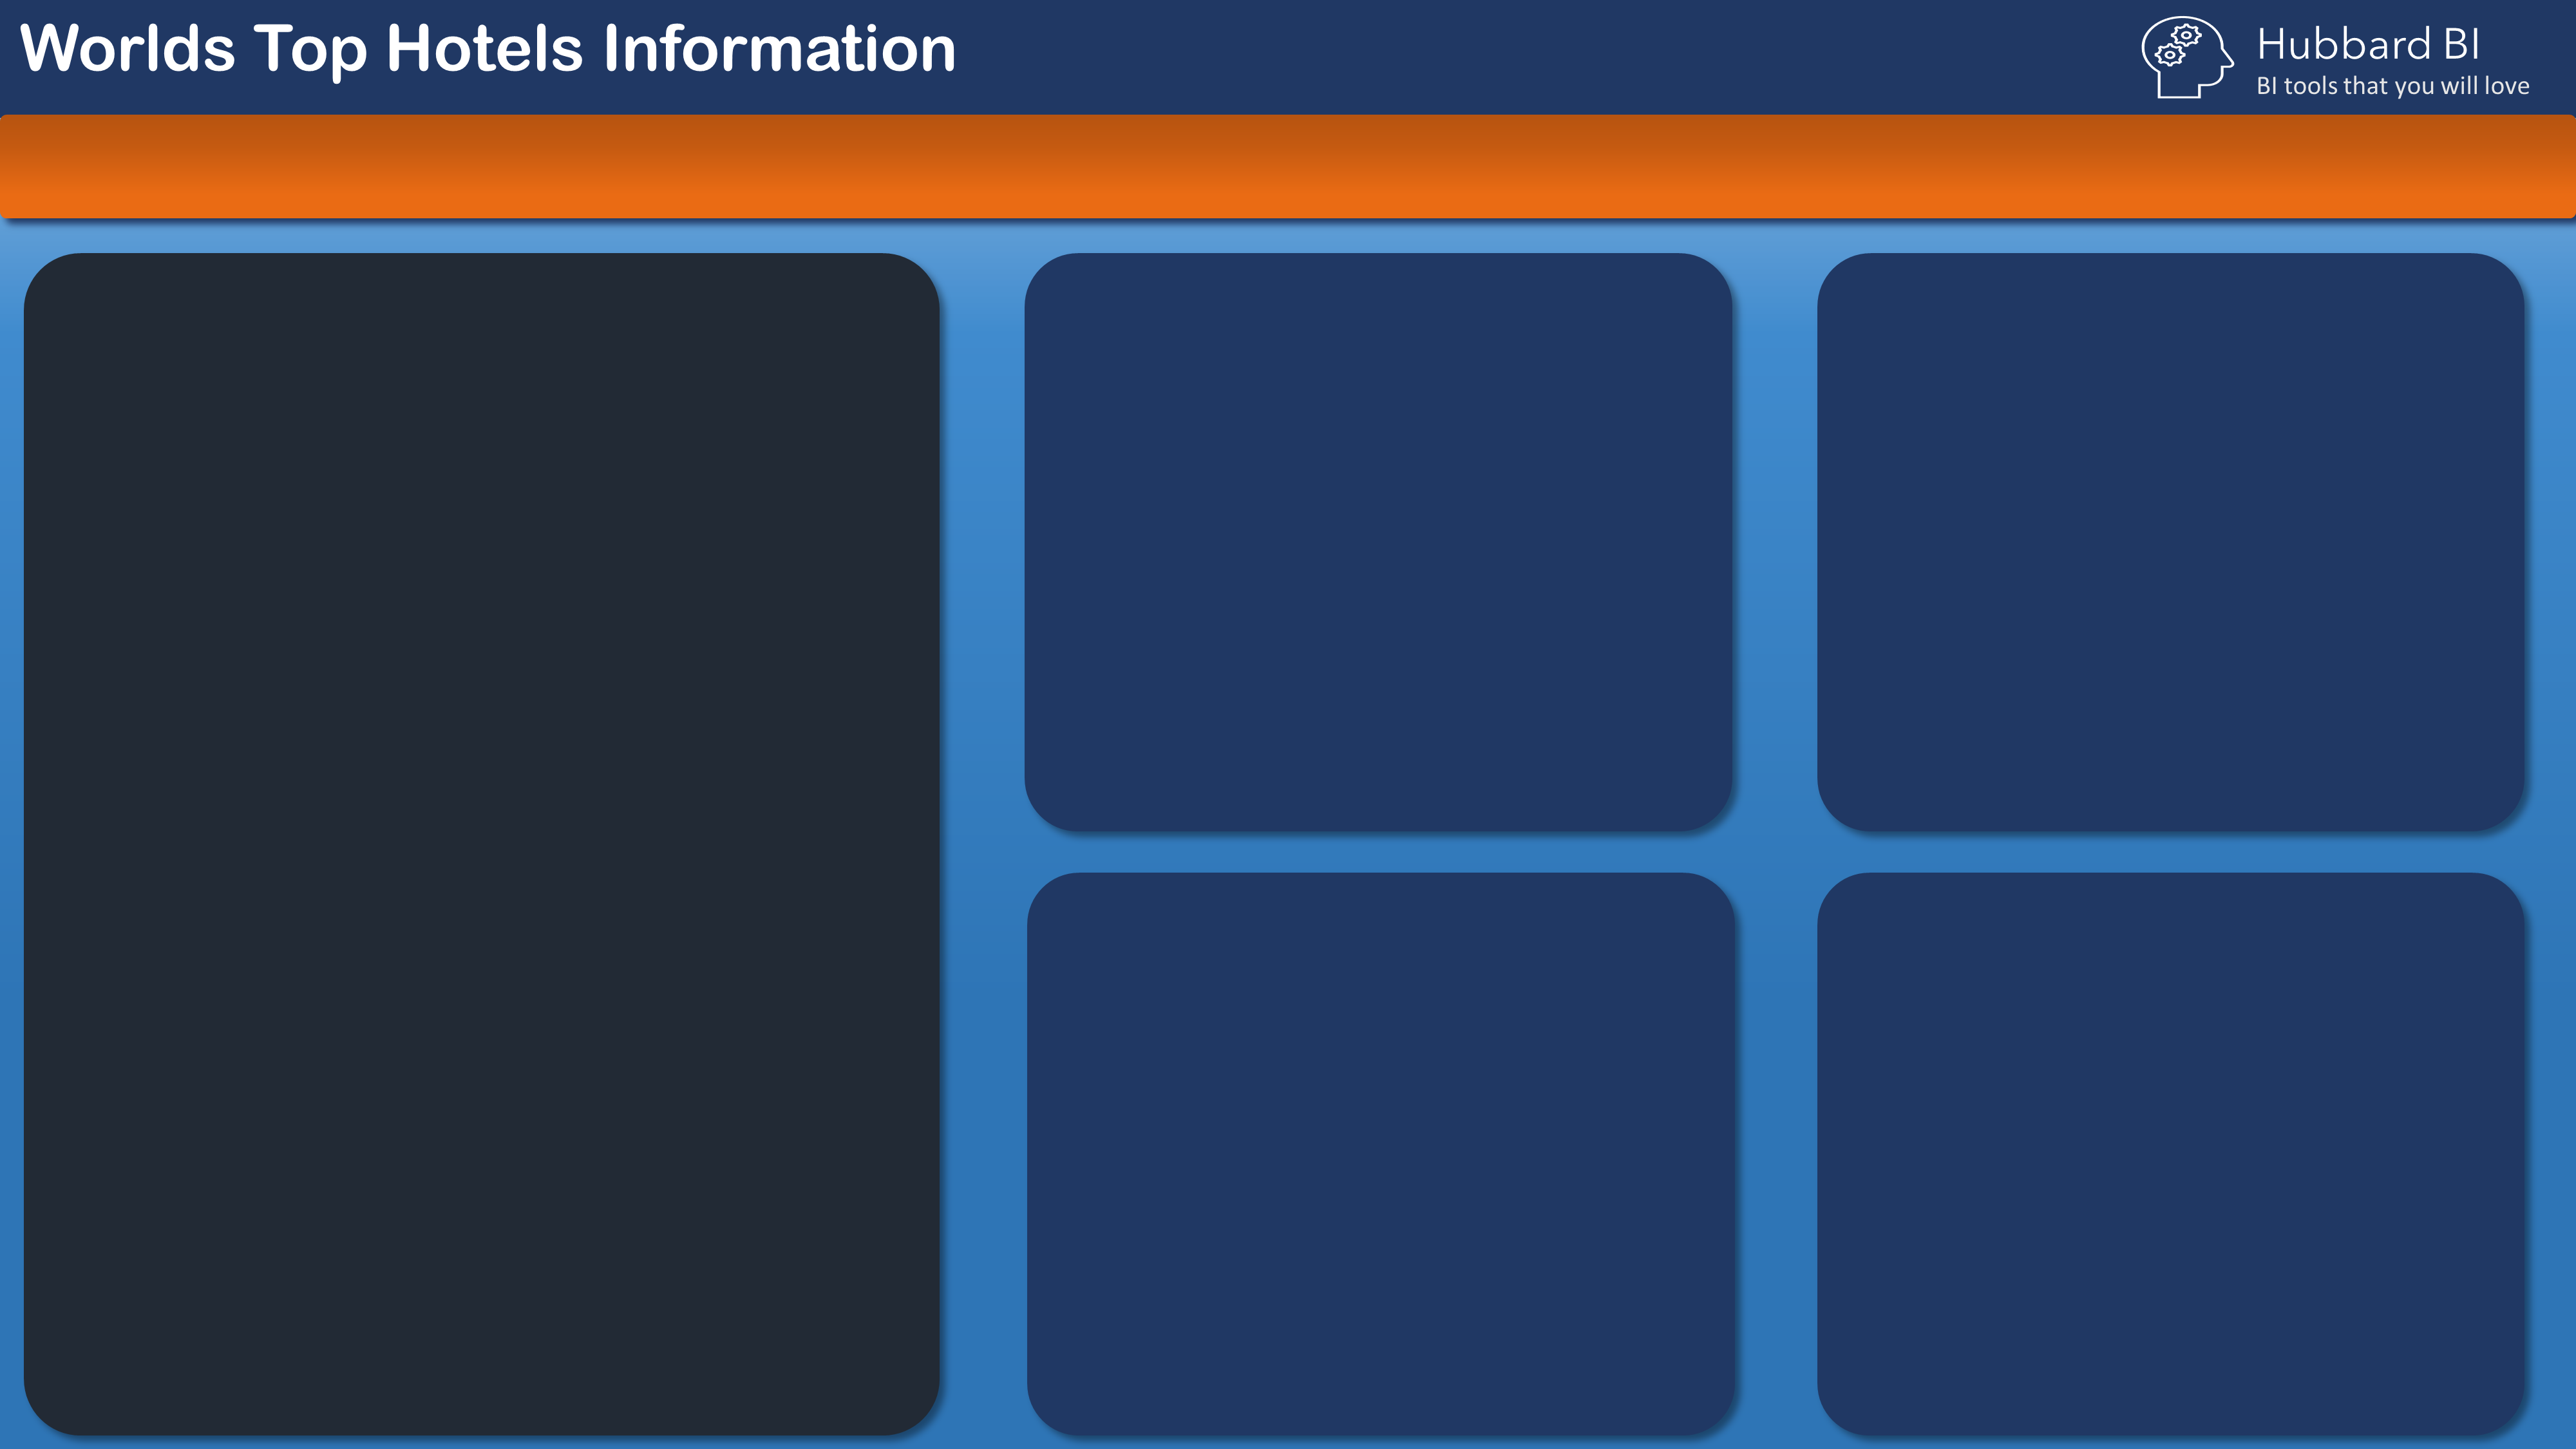

Layout of this report page (visuals, bound fields, positions):
{"tool":"powerbi","page":{"name":"Home","canvas":[1280,720],"ordinal":0},"visuals":[{"type":"map","title":"Where are the hotels located?","fields":{"Size":["Core Measures.Number of Hotels"],"Category":["Location Lookup.Full Location"]},"box":[527,147,317.5,258.5],"z":0},{"type":"textbox","title":"Welcome Merssage","box":[35.4,126.9,414.9,421.4],"z":1000},{"type":"actionButton","title":"Oldest Hotel Text","box":[527,436.1,321.6,259.7],"z":2000},{"type":"actionButton","title":"Highest Satsifaction Text","box":[918.3,436.1,322,259.7],"z":3000},{"type":"pivotTable","title":"How many hotels?","fields":{"Values":["Core Measures.Number of Hotels"],"Rows":["Location Lookup.Region"]},"box":[918.9,147,321.6,258.5],"z":4000},{"type":"actionButton","title":"View Information Button","box":[115.7,599,226,40.1],"z":5000},{"type":"actionButton","title":"View Summary Button","box":[115.7,553.6,226,40.1],"z":6000},{"type":"actionButton","box":[804.4,138.1,36,33.6],"z":7000}]}

Visuals, with their boxes in screenshot pixels (x1, y1, x2, y2), scaled from the page's 1280x720 canvas onto the 2576x1449 screenshot:
"Where are the hotels located?" map: (x1=1061, y1=296, x2=1700, y2=816)
"Welcome Merssage" textbox: (x1=71, y1=256, x2=906, y2=1103)
"Oldest Hotel Text" actionButton: (x1=1061, y1=878, x2=1708, y2=1400)
"Highest Satsifaction Text" actionButton: (x1=1848, y1=878, x2=2496, y2=1400)
"How many hotels?" pivotTable: (x1=1850, y1=296, x2=2497, y2=816)
"View Information Button" actionButton: (x1=233, y1=1206, x2=688, y2=1286)
"View Summary Button" actionButton: (x1=233, y1=1114, x2=688, y2=1195)
actionButton: (x1=1619, y1=278, x2=1691, y2=346)
